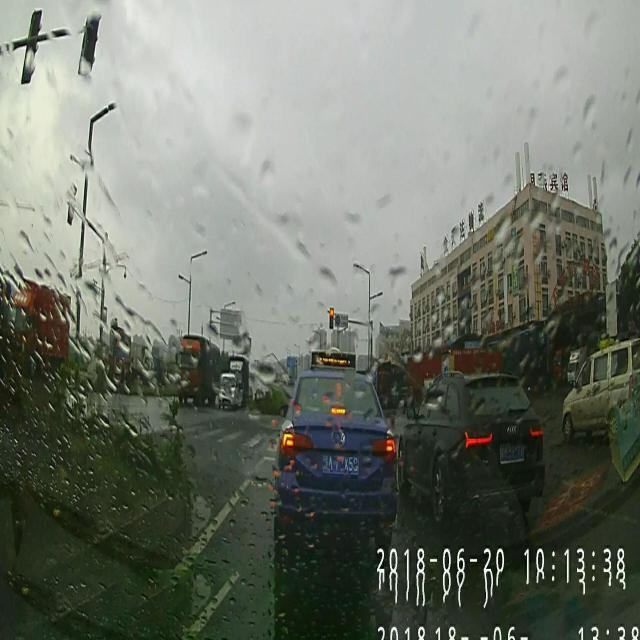car: (274, 348, 398, 558), (397, 368, 545, 527), (560, 338, 638, 444), (218, 371, 236, 411)
